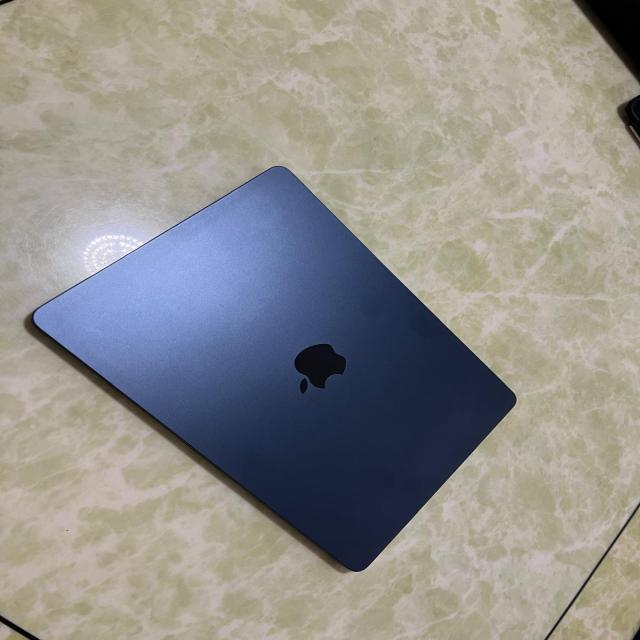laptop: (30, 163, 517, 572)
